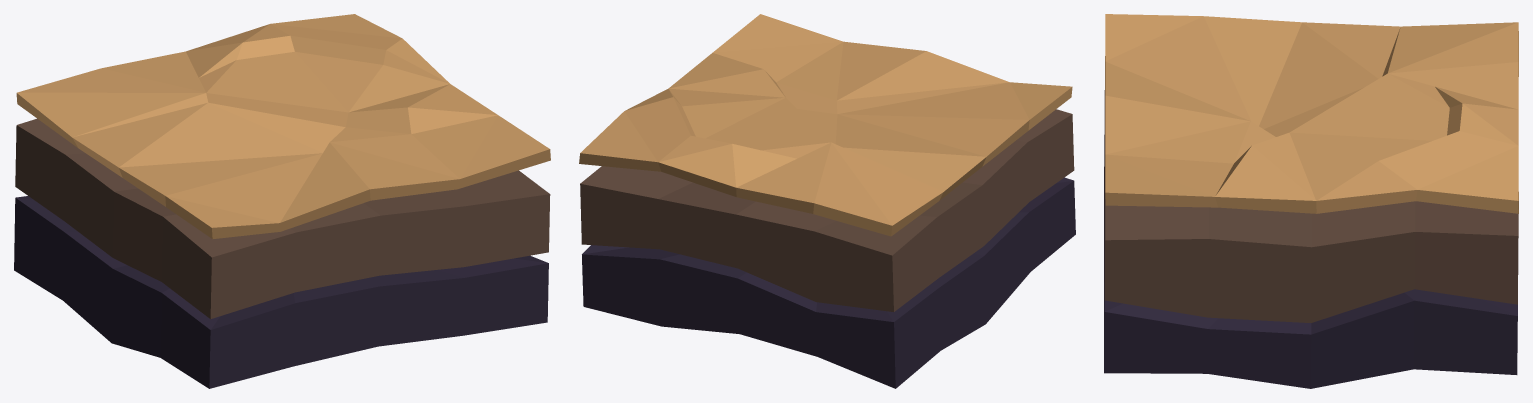
File: ground_02.glb
3 renders of one model, left to right at view 1: azimuth 30°, elevation 25°; view 2: azimuth 150°, elevation 25°; view 3: azimuth 270°, elevation 25°, orthographic. The views are drawn at different scales.
Visible parts, largest first — view 1: Plane.005; view 2: Plane.005; view 3: Plane.005.
Boxes of the visible parts, left/top/right/bottom form: Plane.005: left=14, top=14, right=550, bottom=388; Plane.005: left=579, top=14, right=1075, bottom=388; Plane.005: left=1104, top=14, right=1518, bottom=388.
Bounding box in the file's own units: 30.36 × 17.28 × 30.12.
1 material, 1 textured.
